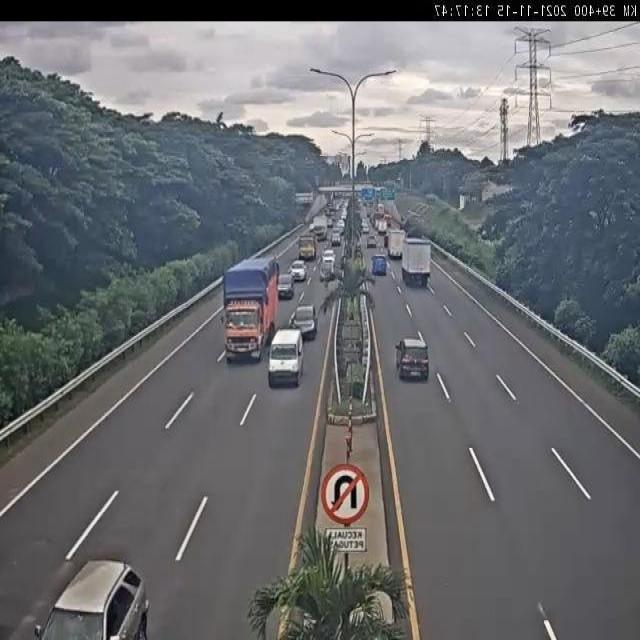Car: (36, 561, 150, 640), (395, 337, 429, 381), (294, 305, 316, 338), (278, 274, 294, 298), (291, 262, 307, 282)
Truck: (221, 257, 278, 360), (401, 238, 432, 287)
Van: (268, 331, 303, 386), (372, 255, 387, 275)
